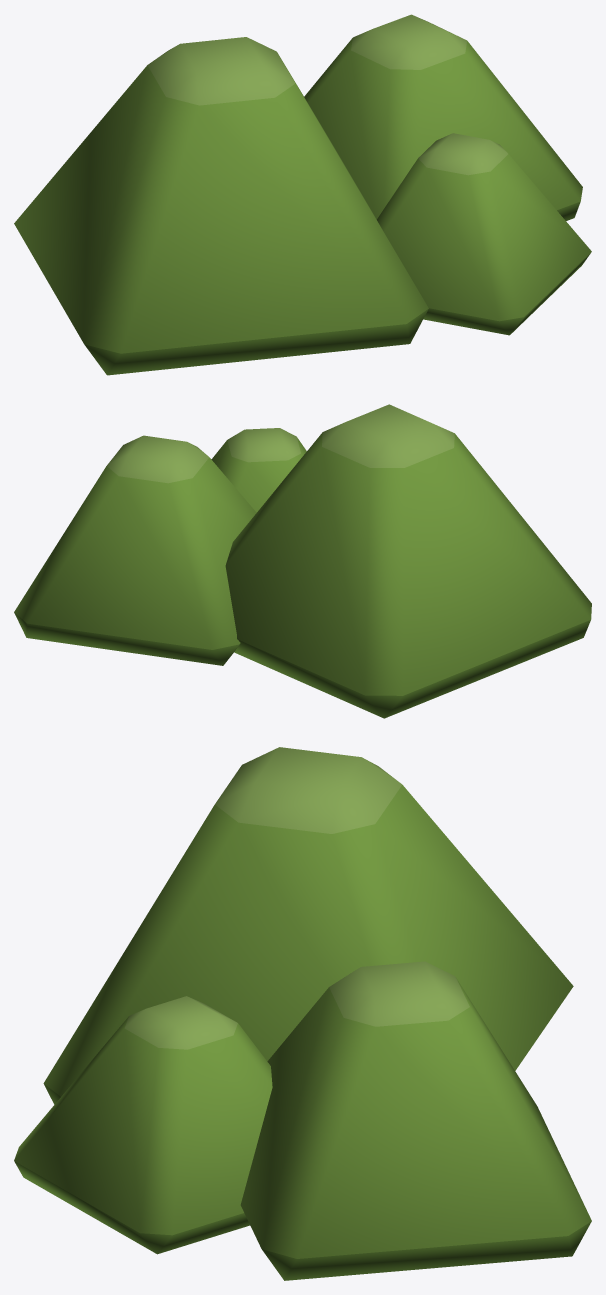
Rendered from itch_kaykit_forest_bush_4_d_color1.glb.
The picture shows the model from 3 angles, top to bottom: view 1: azimuth 30°, elevation 25°; view 2: azimuth 150°, elevation 25°; view 3: azimuth 270°, elevation 25°; orthographic projection. The views are drawn at different scales.
Visible parts, largest first — view 1: Bush_4_D_Color1; view 2: Bush_4_D_Color1; view 3: Bush_4_D_Color1.
Boxes of the visible parts, <box> form: Bush_4_D_Color1: <box>14,14,591,375</box>; Bush_4_D_Color1: <box>14,404,591,718</box>; Bush_4_D_Color1: <box>14,747,591,1280</box>.
Bounding box in the file's own units: 0.96 × 0.41 × 0.7099.
